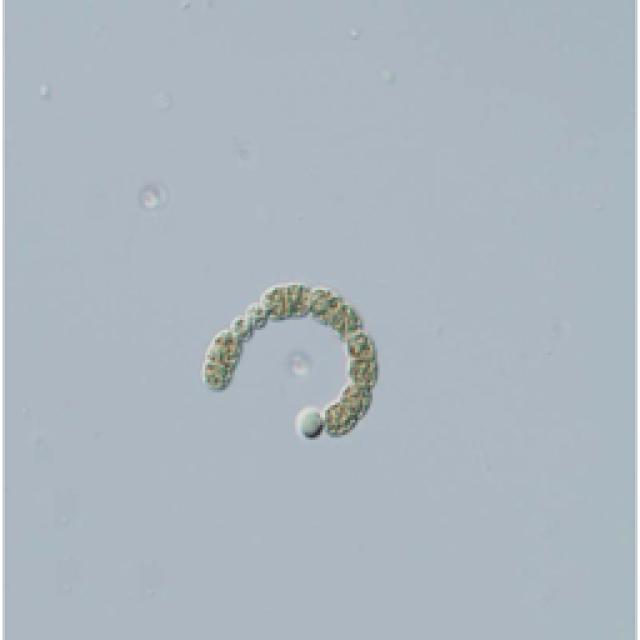Anabaena: (196, 276, 385, 452)
